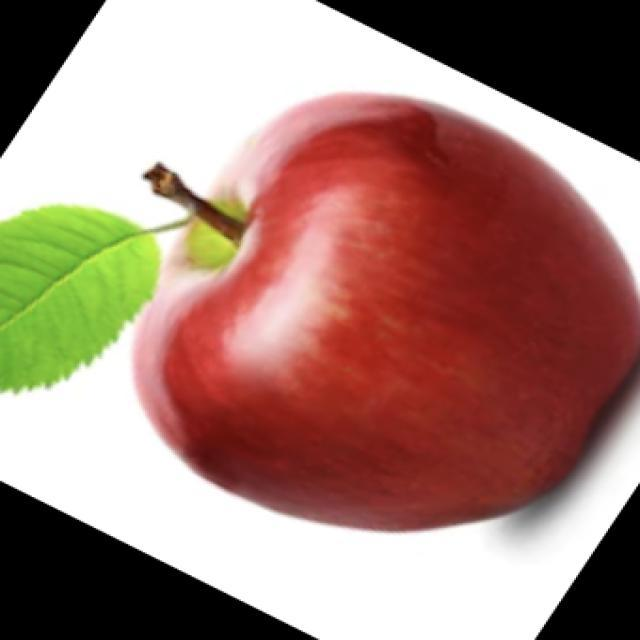Apple: (130, 89, 639, 533)
